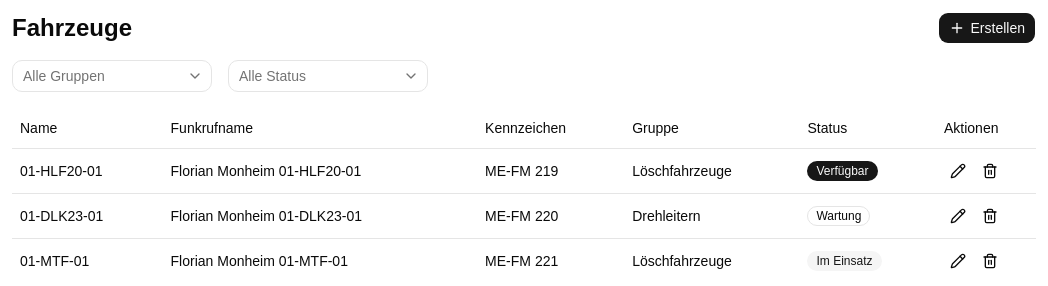
Scenario: VehiclesPage API Integration › filters vehicles by status
The width and height of the screenshot is (1048, 286).
Expected: the text "01-HLF20-01" is shown, top-left (12, 148), bottom-right (162, 193)
// Click the status filter trigger
Step 1. Click the dropdown "Alle Status" → (328, 76), box top-left (228, 60), bottom-right (428, 92)
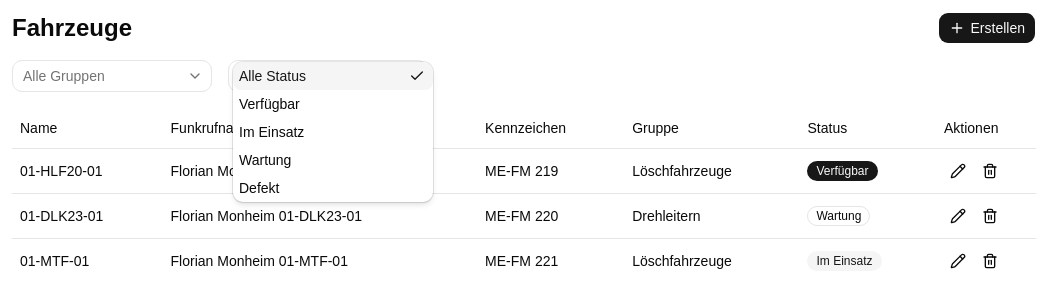
Step 2. Click the option "Wartung" → (265, 160), box top-left (239, 152), bottom-right (291, 168)
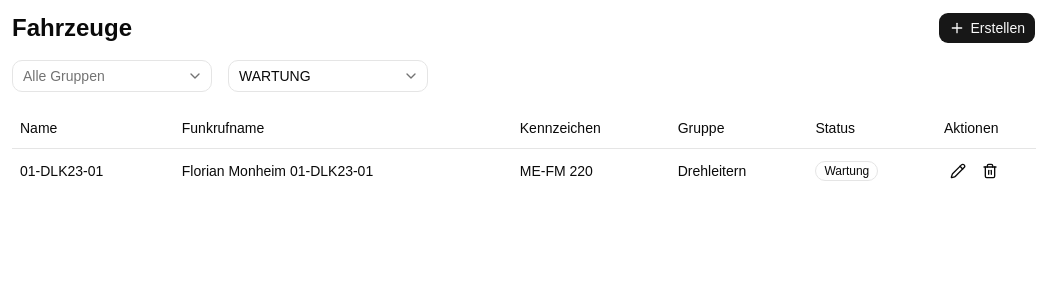
Result: the text "WARTUNG" is shown at top-left (239, 68), bottom-right (311, 84)
